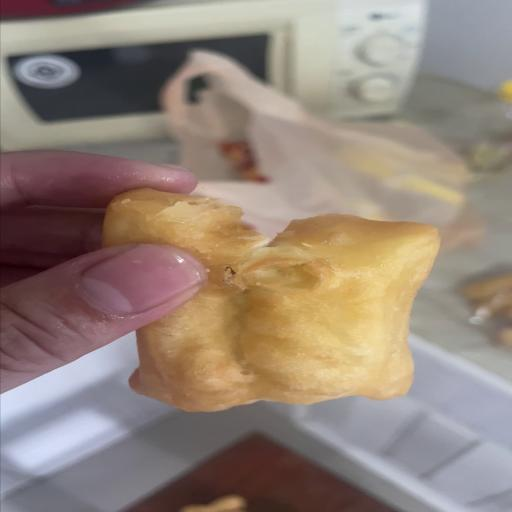street_golden_defect: (103, 189, 440, 412)
